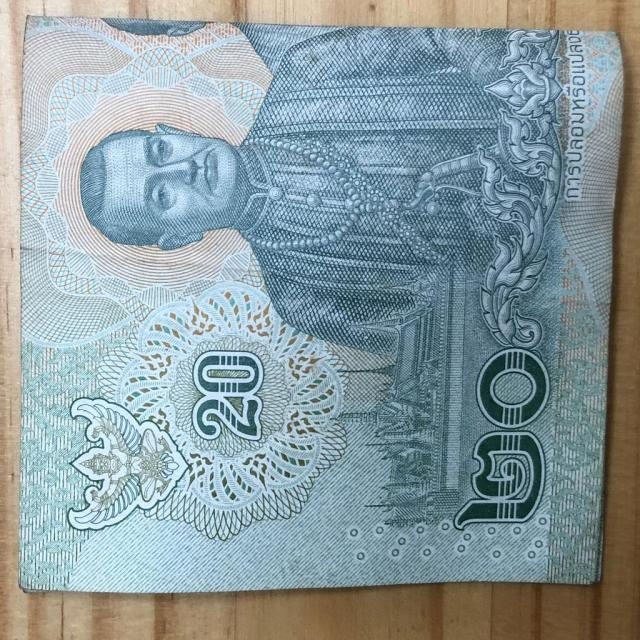THAI20: (19, 16, 619, 592)
